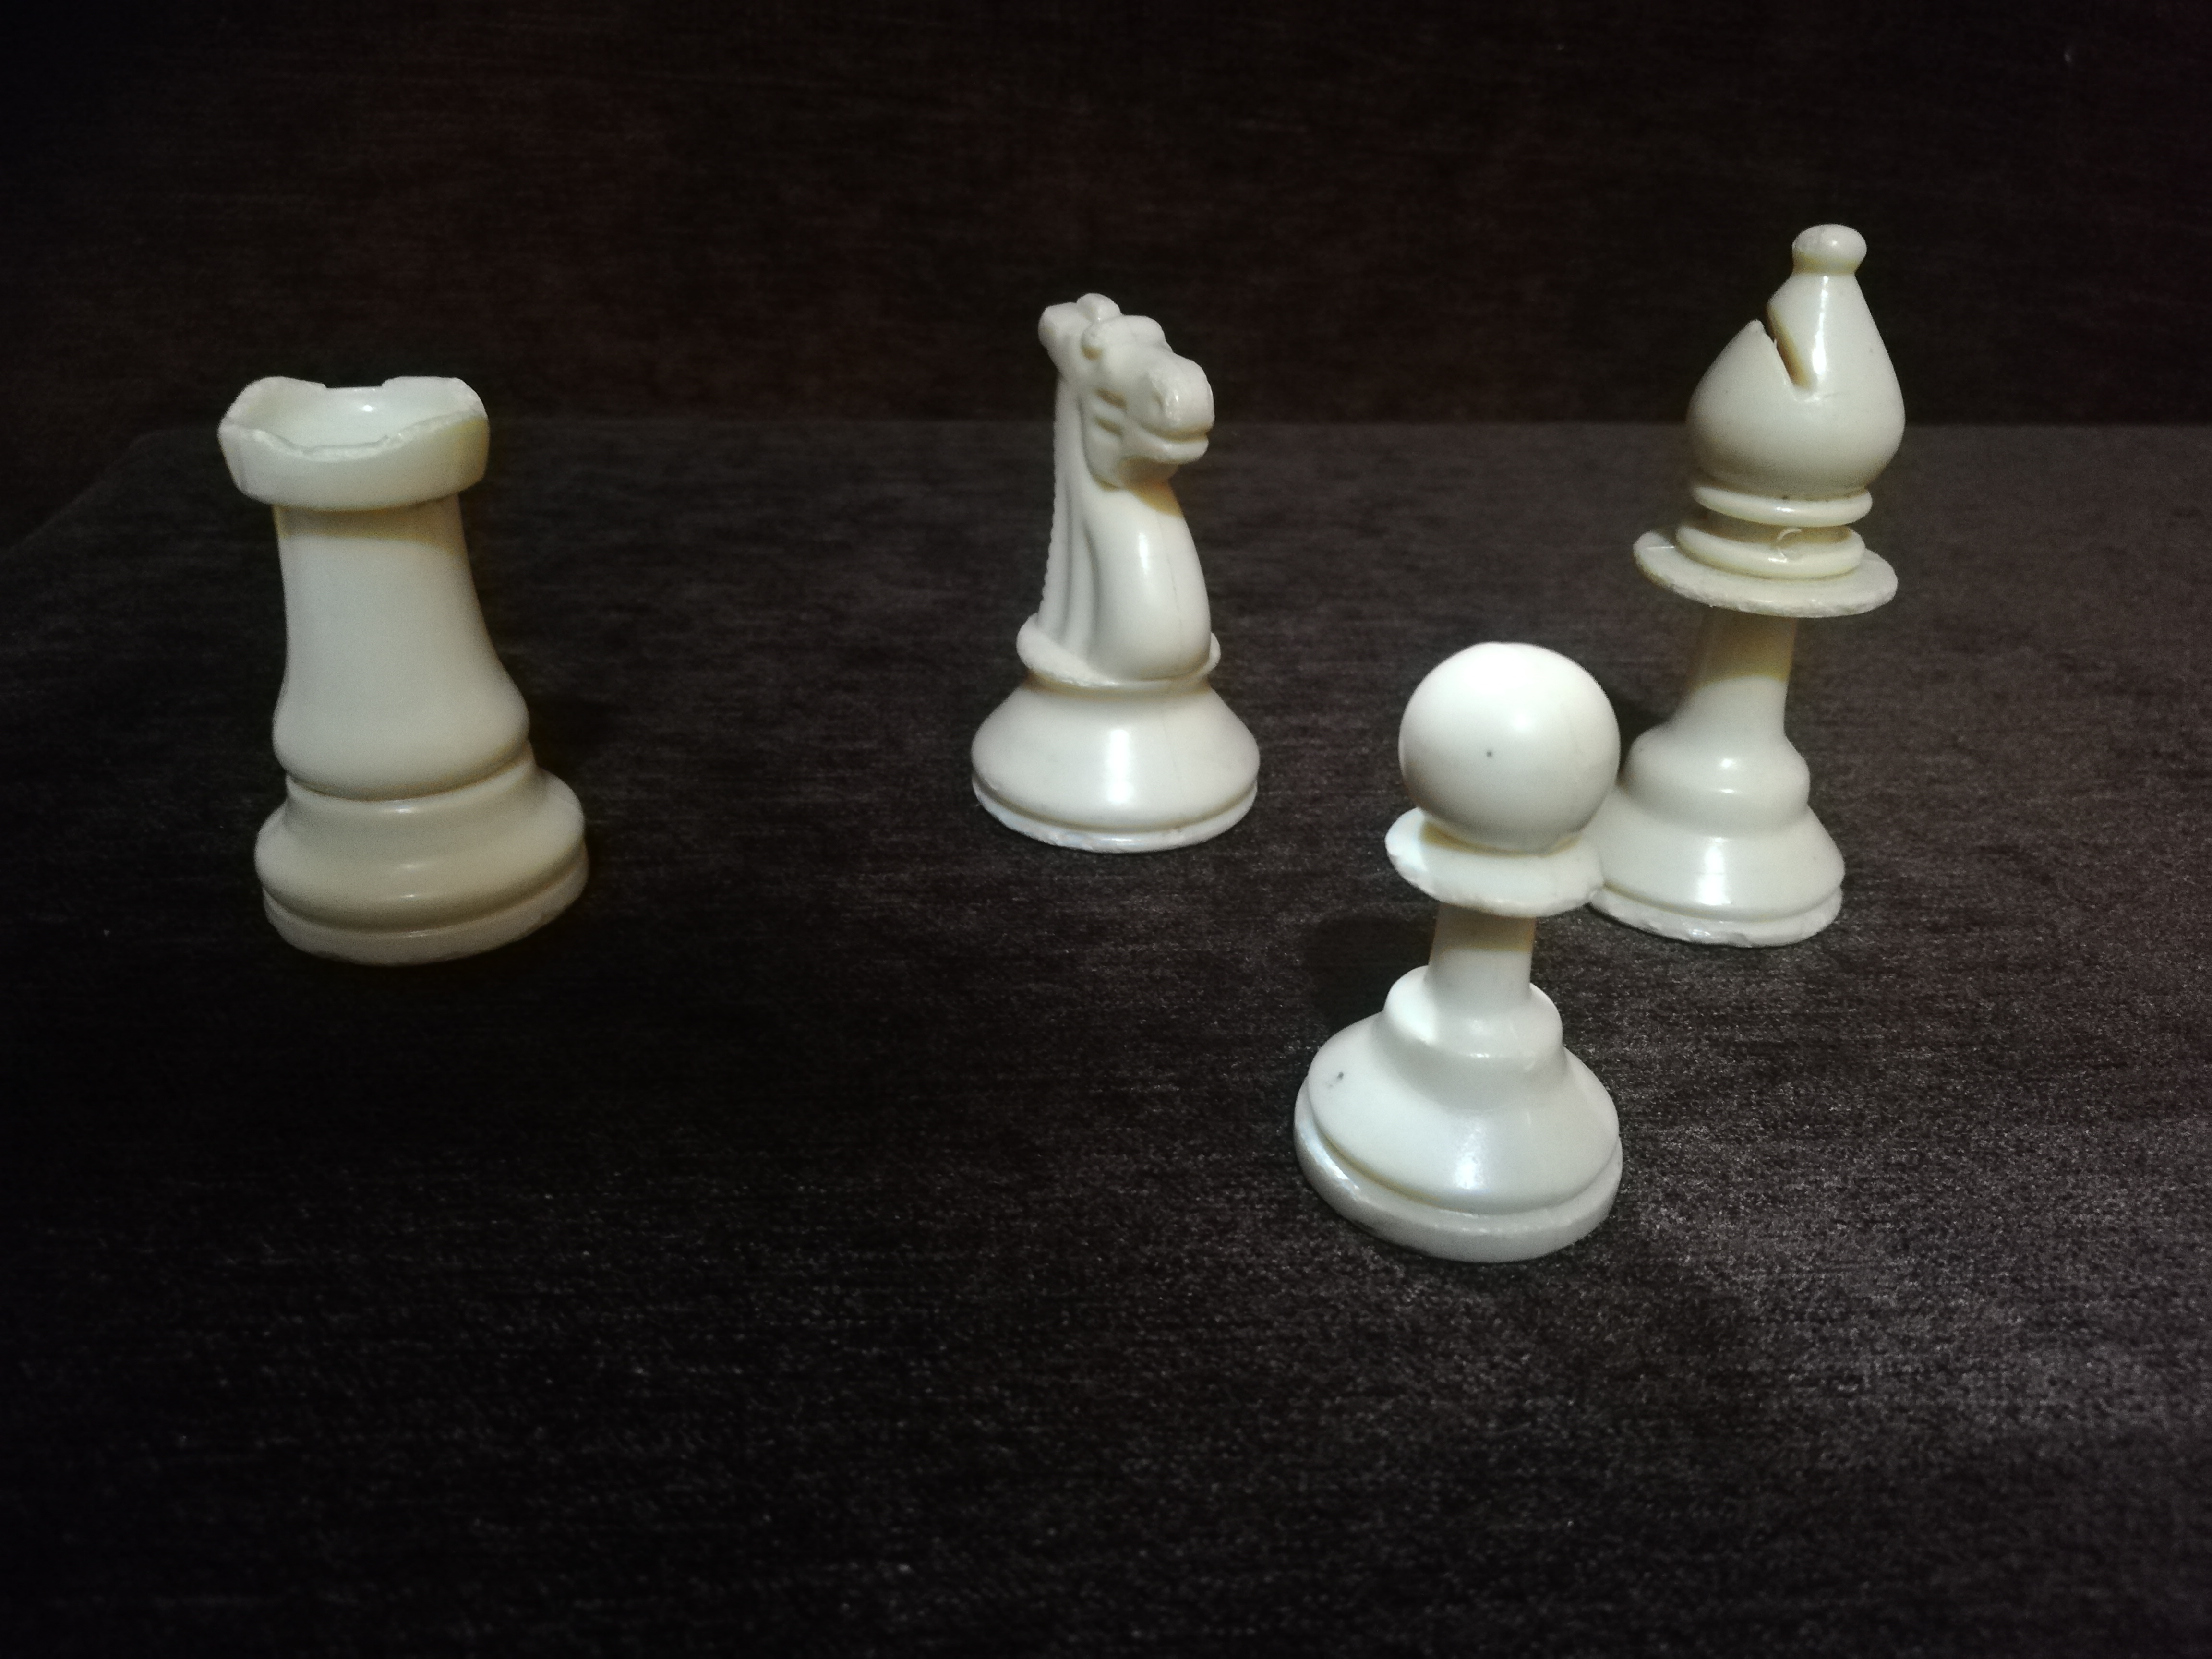Bishop: (1626, 205, 1901, 950)
Knight: (972, 262, 1270, 860)
Pawn: (1291, 641, 1635, 1268)
Rook: (209, 340, 598, 964)
